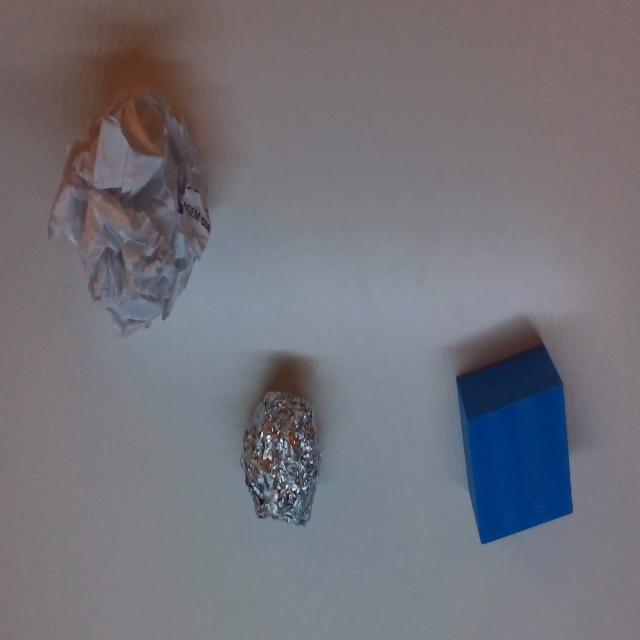Paper: (52, 93, 214, 327)
